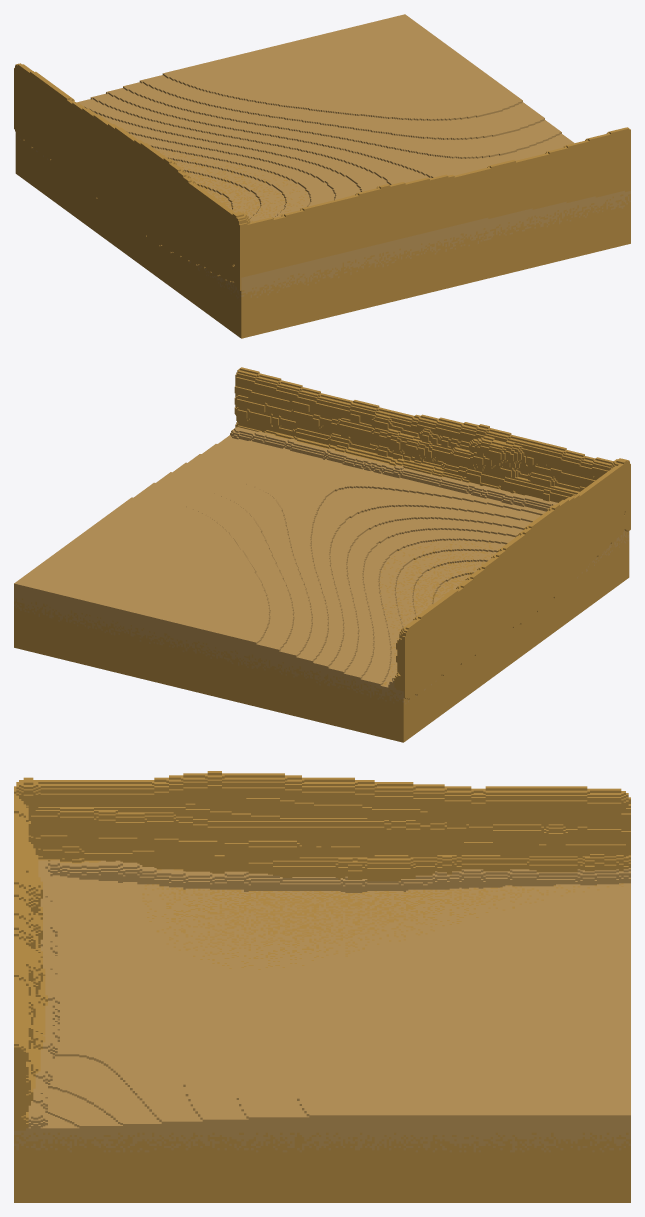
Rendered from Marte-15.obj.
3 views of the same model, one above another, from view 1: azimuth 30°, elevation 25°; view 2: azimuth 150°, elevation 25°; view 3: azimuth 270°, elevation 25° (orthographic). The views are drawn at different scales.
Bounding box in the file's own units: 25.5 × 7.8 × 25.5.
Materials: 1 (1 with a texture image).
